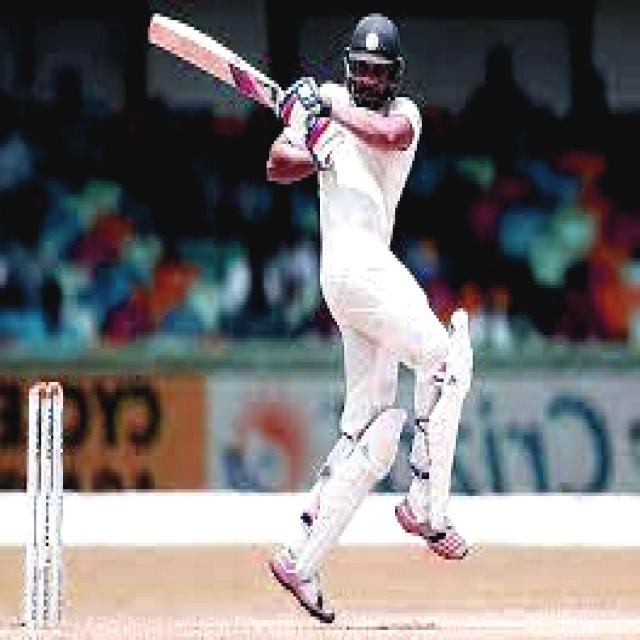toe: (140, 3, 167, 60)
